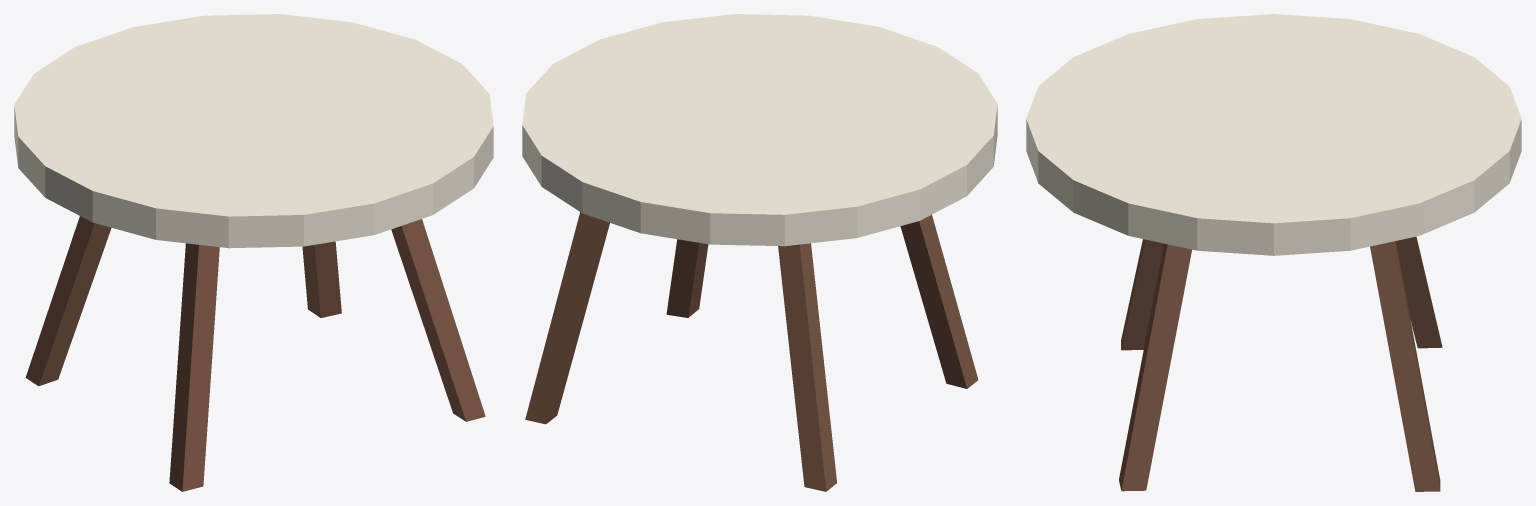
Rendered from Childrens_Room_Table.fbx.
3 views of the same model, side by side, from view 1: azimuth 30°, elevation 25°; view 2: azimuth 150°, elevation 25°; view 3: azimuth 270°, elevation 25° (orthographic). The views are drawn at different scales.
Visible parts, largest first — view 1: Childrens_Room_Table; view 2: Childrens_Room_Table; view 3: Childrens_Room_Table.
Part boxes in pixels (left/top/right/bottom): Childrens_Room_Table: left=14, top=14, right=493, bottom=491; Childrens_Room_Table: left=522, top=14, right=997, bottom=491; Childrens_Room_Table: left=1026, top=14, right=1521, bottom=491.
Bounding box in the file's own units: 128 × 128 × 83.99.
